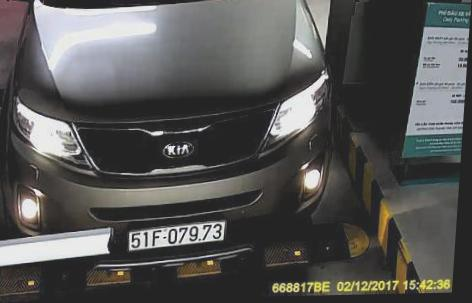License_Plate: (128, 220, 228, 253)
